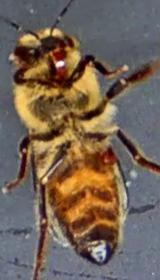varroa_mite: (85, 142, 120, 169)
